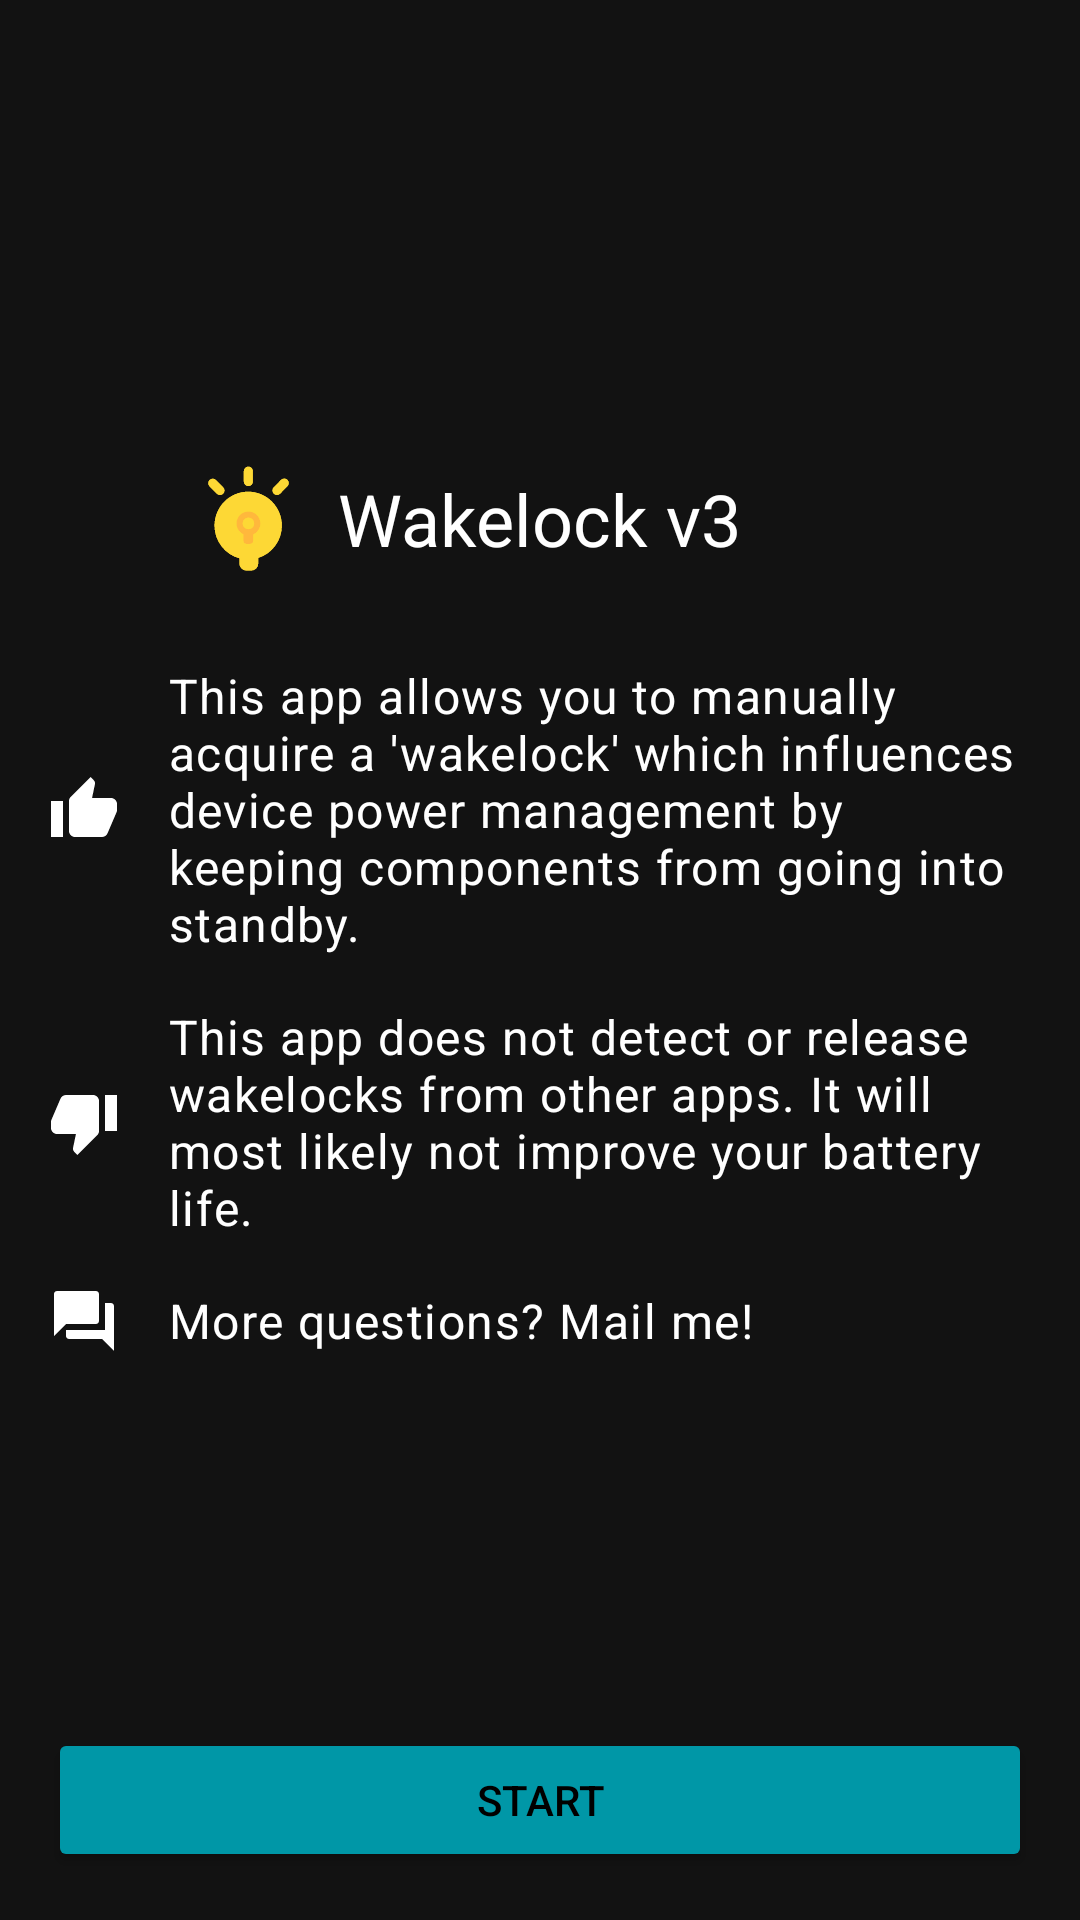

Locate icon controls on the screen. Image size 1080w x 1920h, boxes as rect(x1, y1, x2, y2).
bulb: rect(208, 466, 289, 571)
question answer: rect(54, 1291, 114, 1351)
thumb down: rect(51, 1095, 117, 1155)
thumb up: rect(51, 777, 117, 837)
